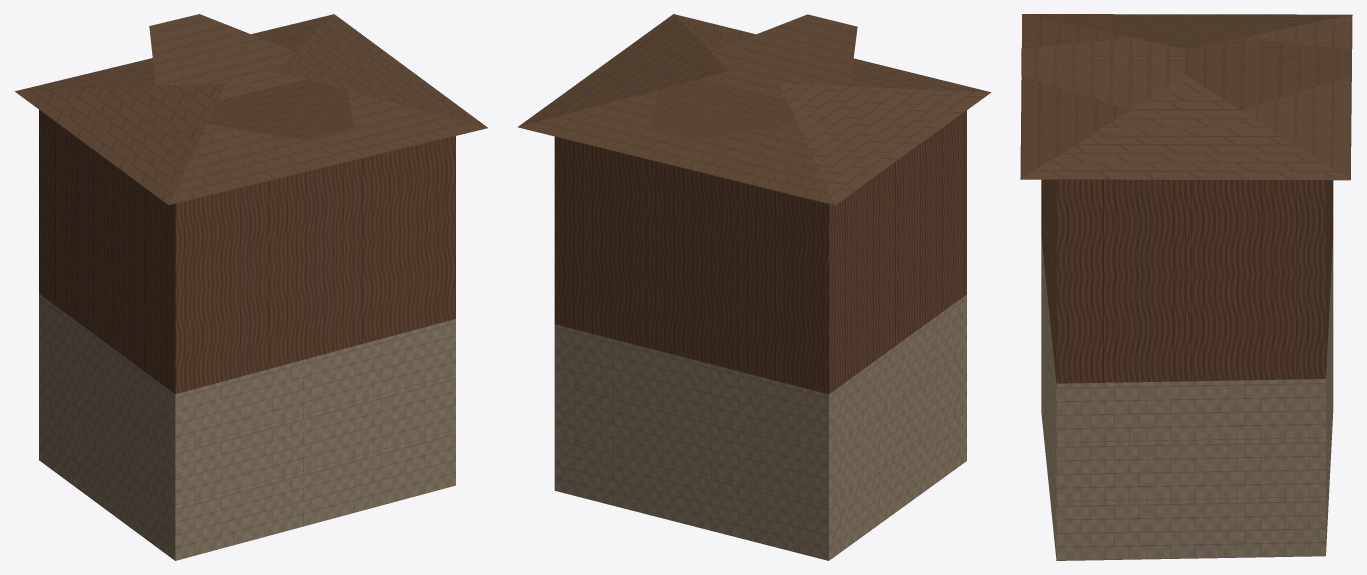
File: bld_c14_14_490.gltf
3 renders of one model, left to right at view 1: azimuth 30°, elevation 25°; view 2: azimuth 150°, elevation 25°; view 3: azimuth 270°, elevation 25°, orthographic. The views are drawn at different scales.
Parts seen in each view (by area): view 1: bld_c14_14_490; view 2: bld_c14_14_490; view 3: bld_c14_14_490.
Boxes of the visible parts, bbox=[...] form: bld_c14_14_490: bbox=[15, 14, 487, 560]; bld_c14_14_490: bbox=[517, 14, 991, 560]; bld_c14_14_490: bbox=[1020, 14, 1352, 560].
Size of the model in its own units: 10.25 by 12.2 by 8.66.
Materials: 3 (3 with a texture image).
